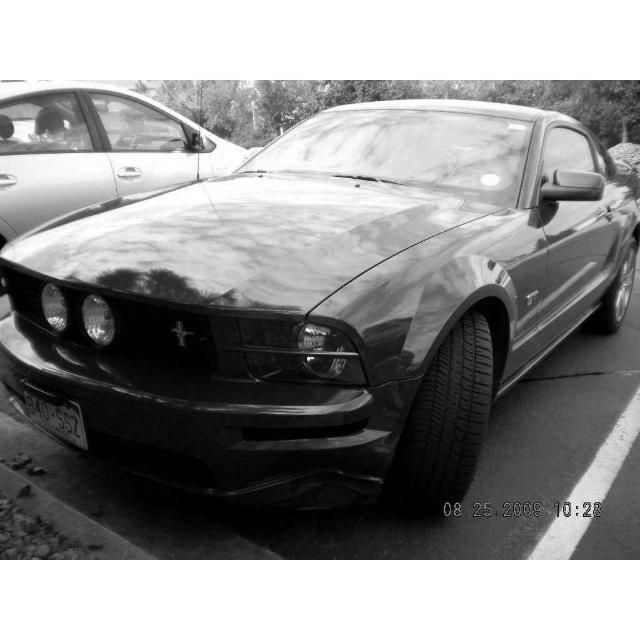Headlight-damage: (143, 404, 398, 524)
